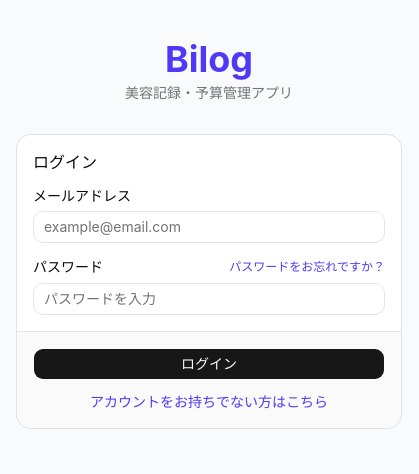
Test: LoginPage › 未入力で送信するとバリデーションエラーが表示されること
Click the button "ログイン": x=209, y=364 [33, 348, 385, 380]
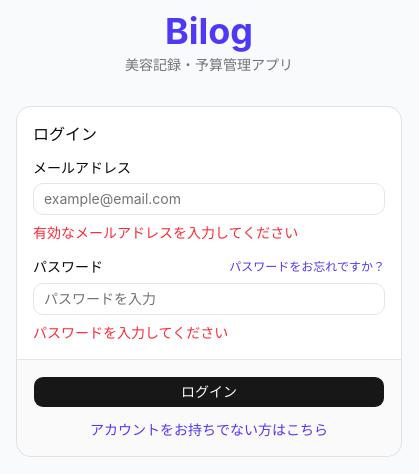
Check: the text "有効なメールアドレスを入力してください" is shown, box [33, 224, 298, 240]
Check: the text "パスワードを入力してください" is shown, box [33, 324, 228, 340]
